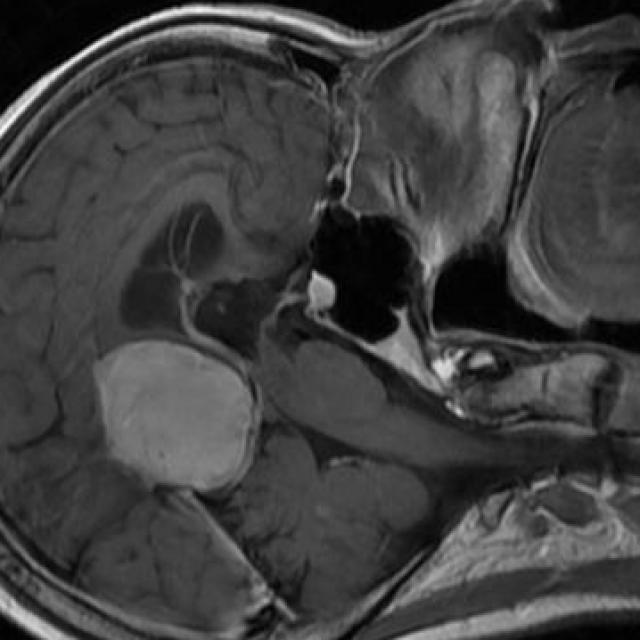meningioma: (93, 341, 253, 492)
